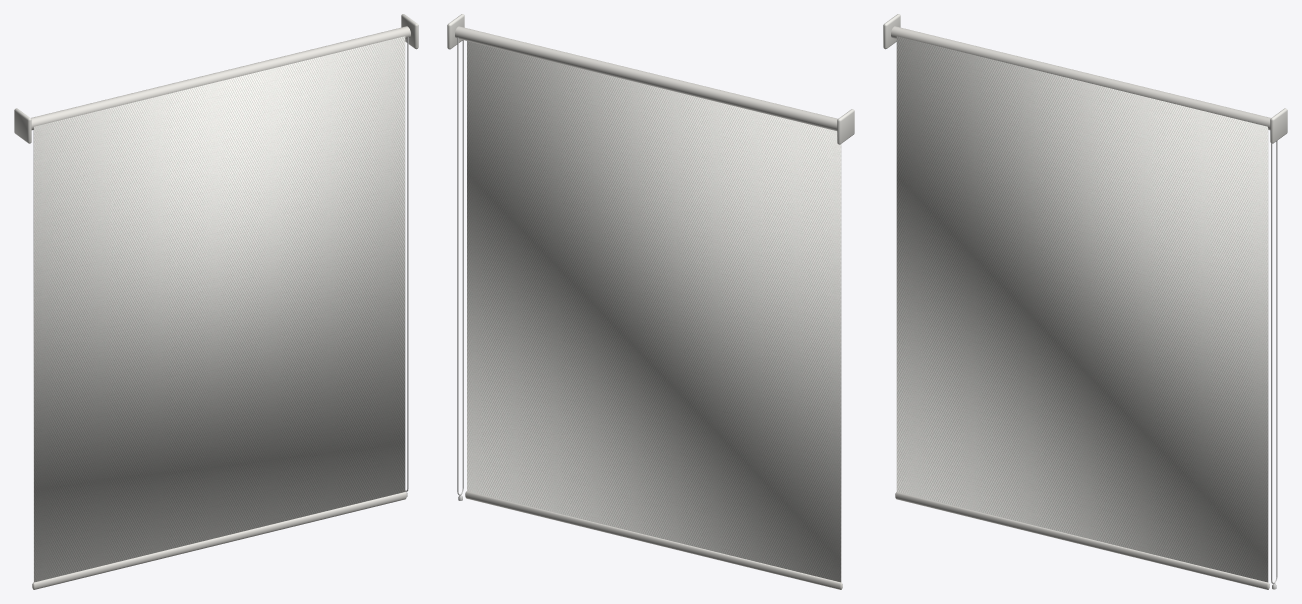
Rendered from estor_enrollable_140_c100.glb.
The picture shows the model from 3 angles, left to right: view 1: azimuth 30°, elevation 25°; view 2: azimuth 150°, elevation 25°; view 3: azimuth 330°, elevation 25°; orthographic projection.
Parts seen in each view (by area): view 1: estor_enrollable_140_c100; view 2: estor_enrollable_140_c100; view 3: estor_enrollable_140_c100.
Boxes of the visible parts, box(x1,y1,x2,y2) form: estor_enrollable_140_c100: box(14, 14, 418, 589); estor_enrollable_140_c100: box(447, 14, 854, 589); estor_enrollable_140_c100: box(883, 14, 1287, 589).
Size of the model in its own units: 1.2 by 1.4 by 0.08.
Materials: 4 (1 with a texture image).
